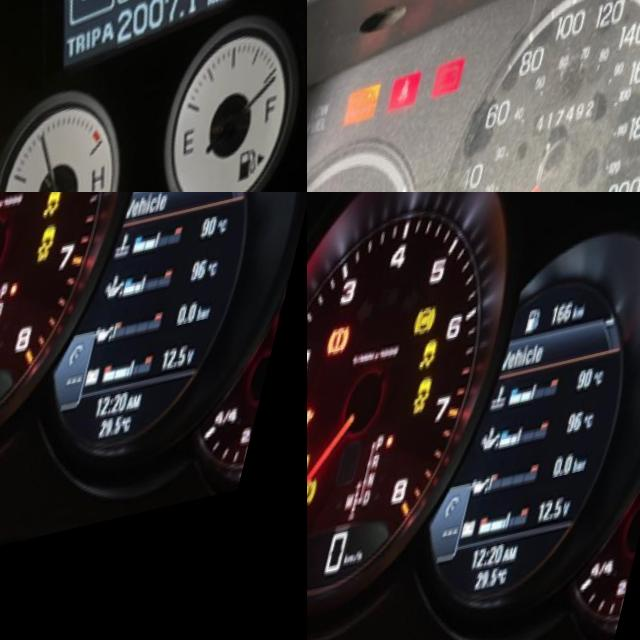Seat Belt: (405, 84, 429, 118)
